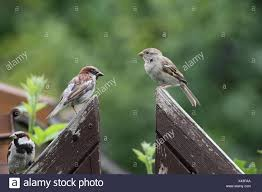home_sparrow: (133, 45, 204, 110), (45, 57, 102, 124), (1, 124, 38, 178)
